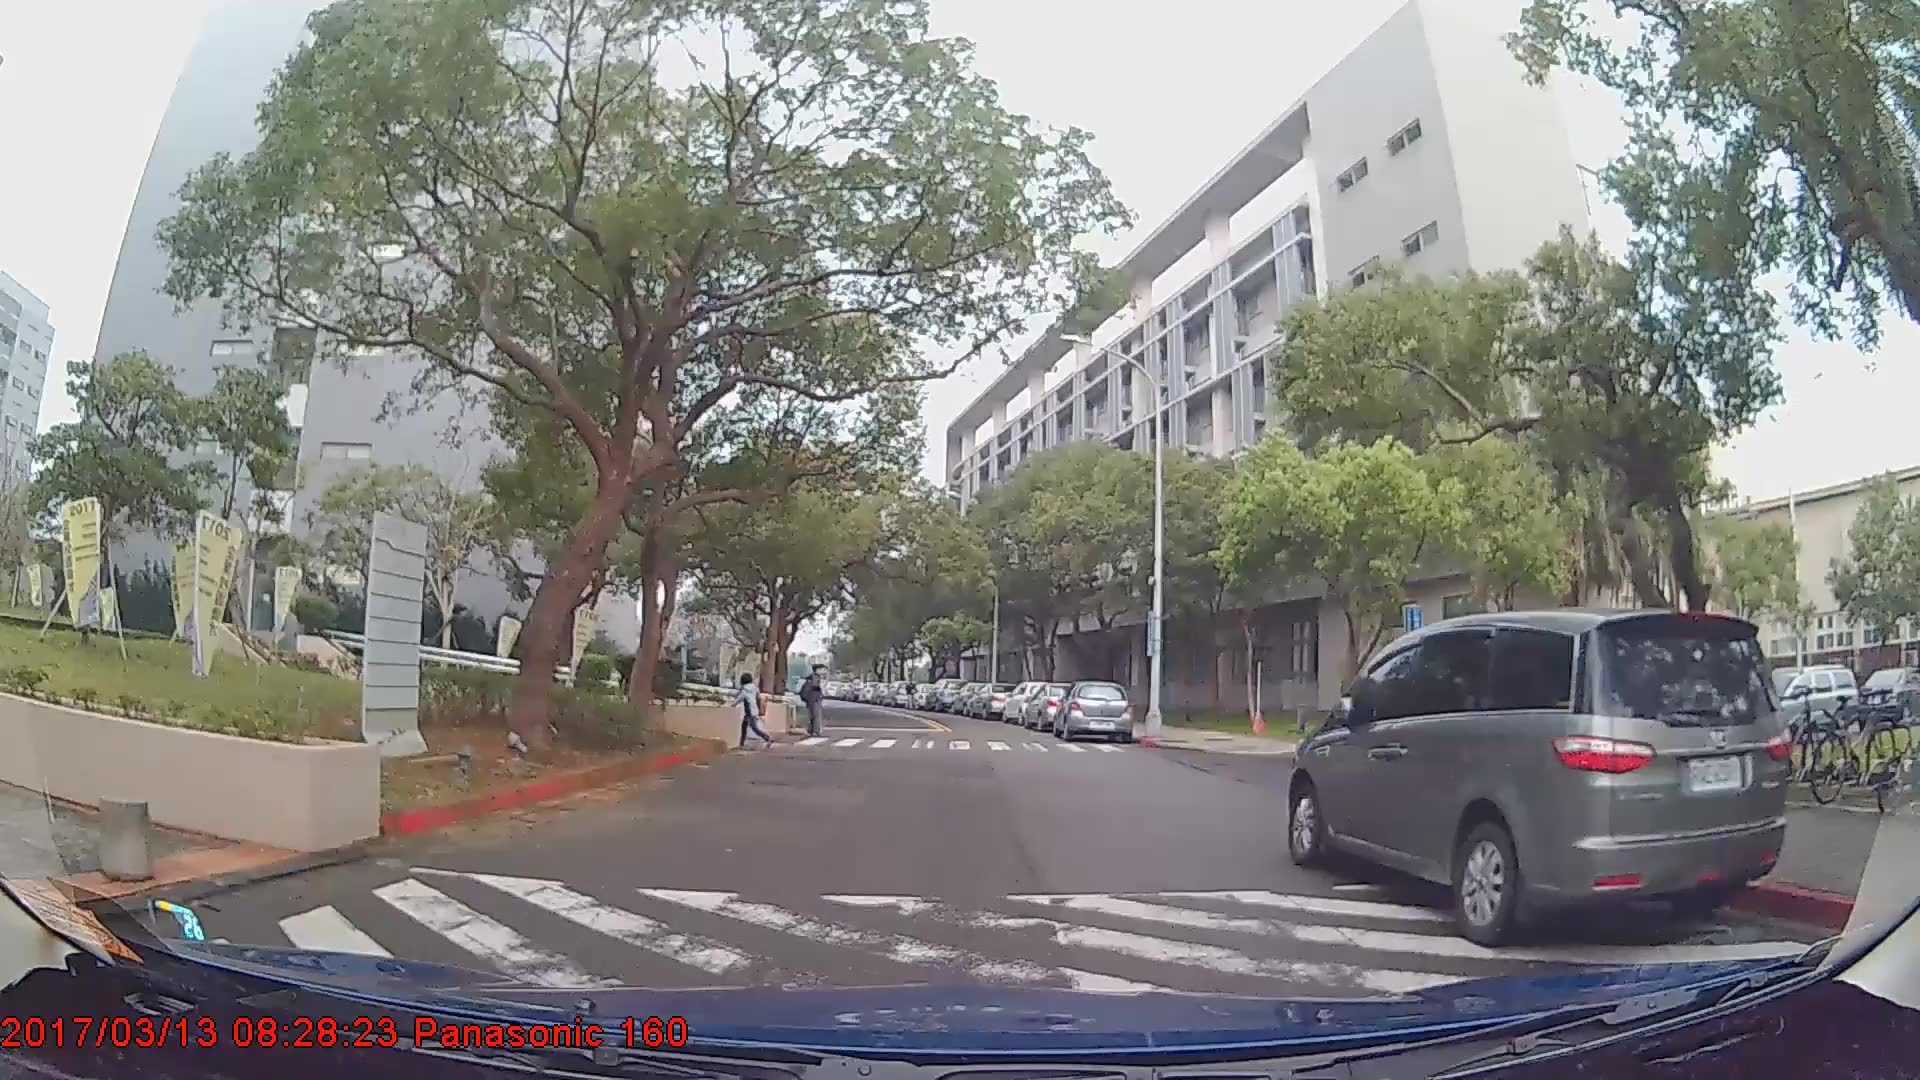pedestrian: (736, 672, 769, 749), (799, 661, 826, 741)
vehicle: (1283, 606, 1791, 944), (1725, 661, 1858, 741), (1055, 678, 1131, 742), (1854, 664, 1920, 728), (1018, 678, 1088, 729), (999, 677, 1059, 725), (966, 682, 1011, 718), (922, 675, 964, 710)
